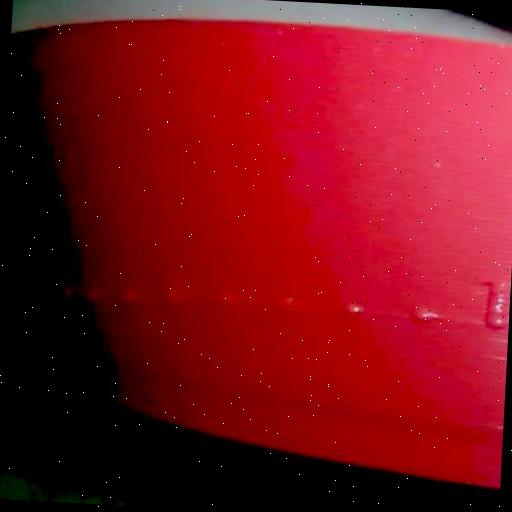blobs: (480, 282, 510, 331), (411, 299, 441, 329), (268, 290, 302, 316), (338, 296, 366, 323), (159, 283, 189, 307), (209, 286, 236, 308), (118, 286, 143, 308), (86, 286, 105, 304)
